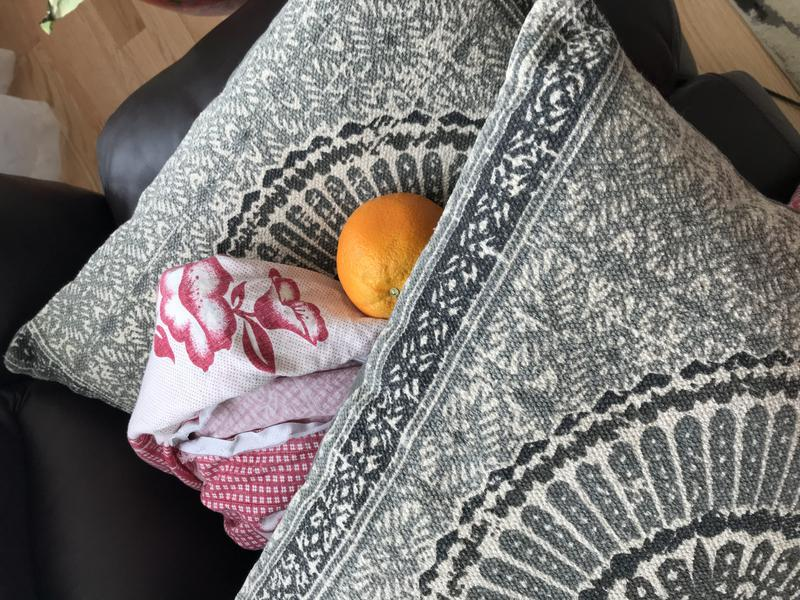orange: (326, 185, 469, 329)
